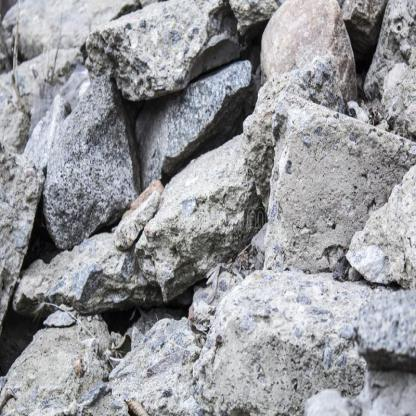Sedimentary_Limestone: (245, 78, 406, 265), (141, 143, 274, 289), (40, 67, 137, 244), (258, 1, 377, 115), (82, 8, 239, 83)
